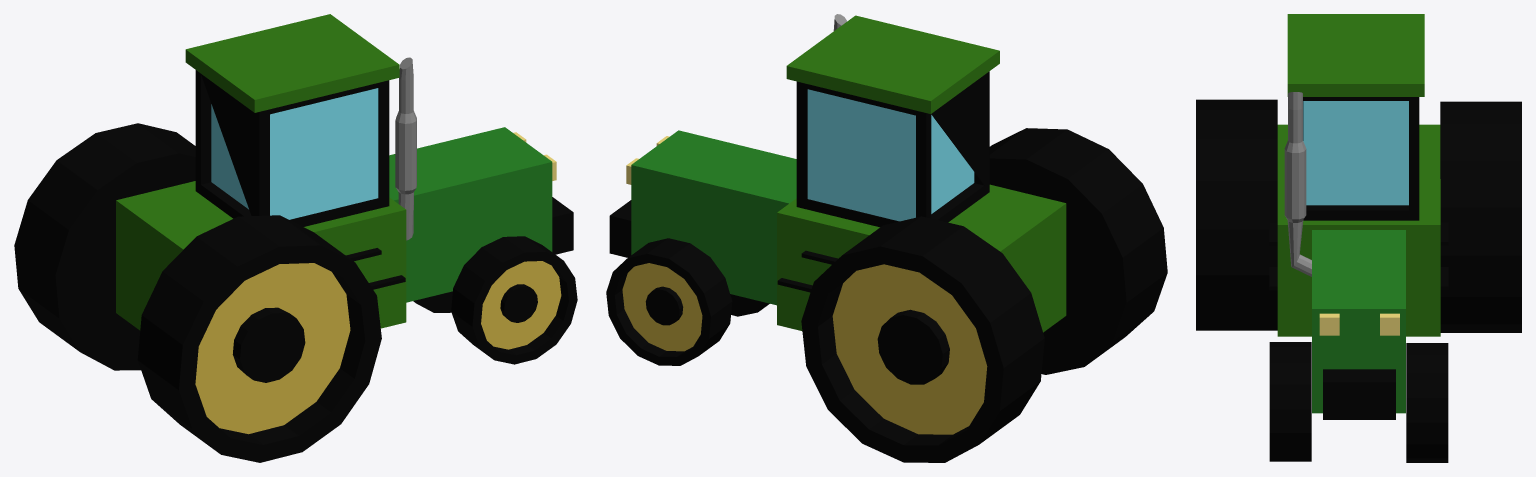
The model's file is TractorTEXTURAS.fbx.
3 renders of one model, left to right at view 1: azimuth 30°, elevation 25°; view 2: azimuth 150°, elevation 25°; view 3: azimuth 270°, elevation 25°, orthographic.
Parts seen in each view (by area): view 1: Cylinder.010, Cylinder.016, Cylinder.001, Cylinder.002, Cylinder.008, Cylinder.021, Cylinder.005, Cylinder.003, Cylinder.011, Cylinder.007, Cylinder.018, Cylinder.009; view 2: Cylinder.016, Cylinder.010, Cylinder.001, Cylinder.002, Cylinder.008, Cylinder.021, Cylinder.019, Cylinder.003, Cylinder.017, Cylinder.020, Cylinder.009; view 3: Cylinder.010, Cylinder.016, Cylinder.001, Cylinder.021, Cylinder.002, Cylinder.008, Cylinder.005, Cylinder.019, Cylinder.009, Cylinder.003, Cylinder.007, Cylinder.004 (+1 smaller).
Part boxes in pixels (left/top/right/bottom): Cylinder.010: left=137, top=215, right=381, bottom=462; Cylinder.016: left=14, top=123, right=195, bottom=370; Cylinder.001: left=389, top=127, right=552, bottom=302; Cylinder.002: left=116, top=181, right=406, bottom=330; Cylinder.008: left=211, top=88, right=378, bottom=219; Cylinder.021: left=185, top=14, right=399, bottom=112; Cylinder.005: left=451, top=236, right=577, bottom=364; Cylinder.003: left=195, top=70, right=389, bottom=226; Cylinder.011: left=232, top=307, right=305, bottom=382; Cylinder.007: left=395, top=57, right=416, bottom=240; Cylinder.018: left=500, top=284, right=537, bottom=322; Cylinder.009: left=552, top=197, right=573, bottom=254; Cylinder.016: left=801, top=216, right=1044, bottom=462; Cylinder.010: left=989, top=128, right=1167, bottom=374; Cylinder.001: left=631, top=130, right=796, bottom=305; Cylinder.002: left=777, top=184, right=1066, bottom=332; Cylinder.008: left=807, top=89, right=974, bottom=221; Cylinder.021: left=786, top=15, right=999, bottom=113; Cylinder.019: left=606, top=238, right=732, bottom=365; Cylinder.003: left=796, top=71, right=989, bottom=227; Cylinder.017: left=877, top=309, right=949, bottom=384; Cylinder.020: left=645, top=286, right=683, bottom=325; Cylinder.009: left=609, top=200, right=631, bottom=257; Cylinder.010: left=1196, top=99, right=1277, bottom=330; Cylinder.016: left=1440, top=101, right=1521, bottom=332; Cylinder.001: left=1312, top=230, right=1405, bottom=413; Cylinder.021: left=1287, top=14, right=1424, bottom=96; Cylinder.002: left=1277, top=124, right=1440, bottom=336; Cylinder.008: left=1303, top=101, right=1408, bottom=205; Cylinder.005: left=1269, top=342, right=1311, bottom=461; Cylinder.019: left=1406, top=343, right=1448, bottom=462; Cylinder.009: left=1323, top=369, right=1395, bottom=419; Cylinder.003: left=1303, top=97, right=1419, bottom=220; Cylinder.007: left=1284, top=92, right=1311, bottom=276; Cylinder.004: left=1319, top=313, right=1339, bottom=335.
Size of the model in its own units: 386 by 258 by 240.
